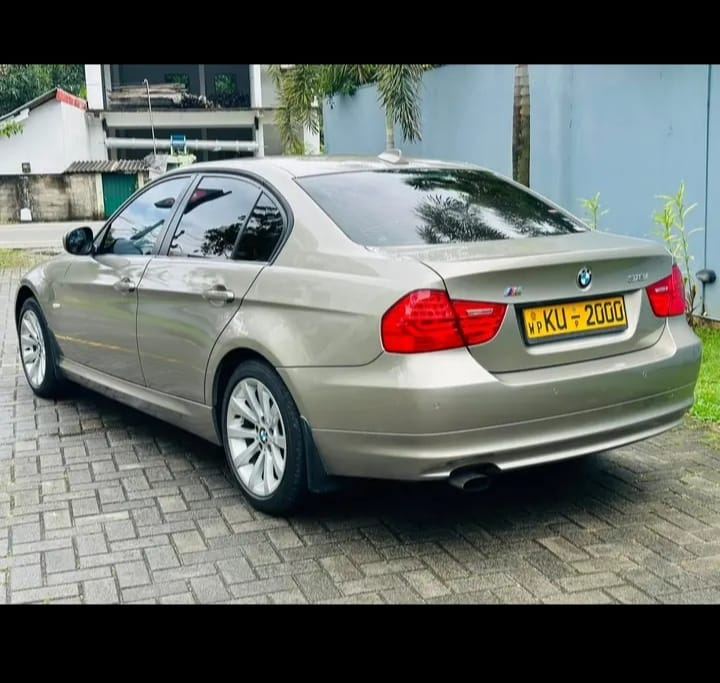number_plate: (518, 295, 626, 341)
